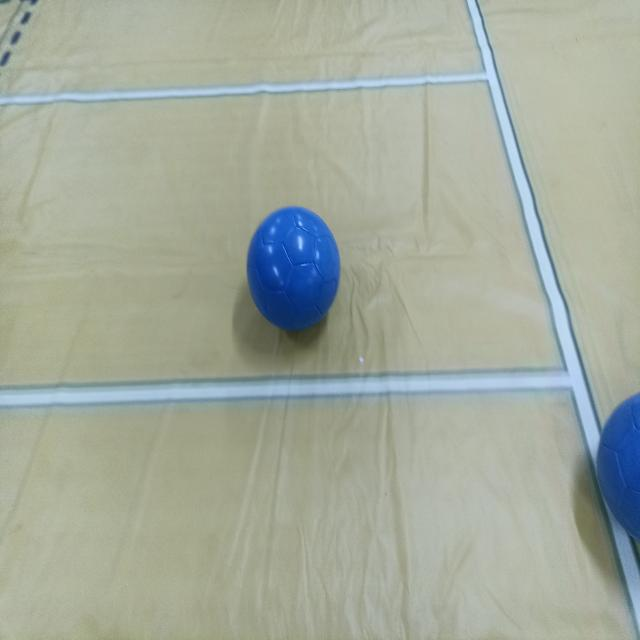blue_ball: (244, 198, 346, 340), (594, 386, 640, 532)
